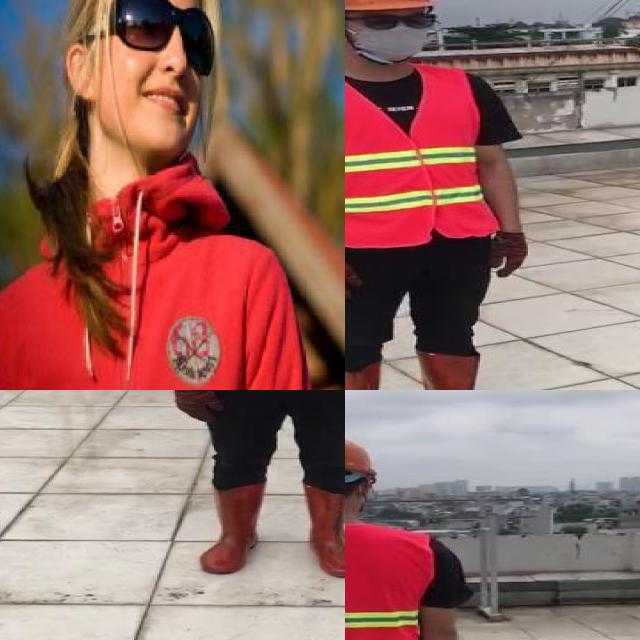No_Ear-Protection: (64, 44, 99, 106)
boots: (203, 482, 269, 574), (414, 348, 519, 390), (299, 484, 345, 577)
face_mask: (345, 4, 443, 62)
face_nomask: (107, 0, 210, 122)
glasses: (81, 0, 219, 81), (350, 6, 444, 34)
hand_glove: (487, 233, 525, 277), (345, 256, 364, 301)
head_helmet: (345, 430, 380, 480)
person: (0, 0, 313, 390), (345, 0, 550, 390), (145, 390, 345, 581), (345, 430, 476, 640)
vest: (345, 63, 494, 245), (345, 524, 432, 640)
